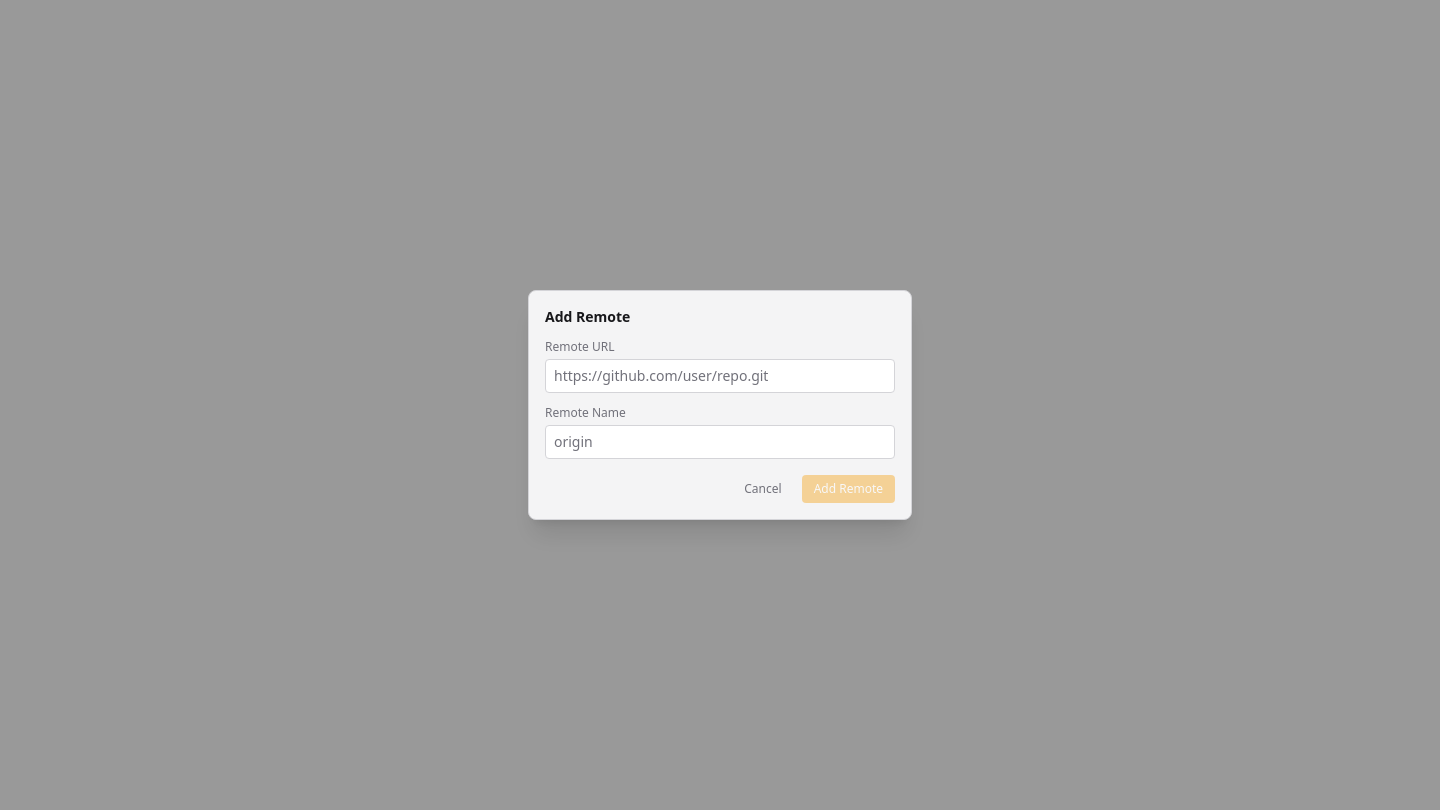
Test case: AddRemoteDialog › auto-suggests remote name from git@ URL
In the field with test id "add-remote-url": [720, 376] box [545, 359, 895, 393], type "git@github.com:user/repo.git"
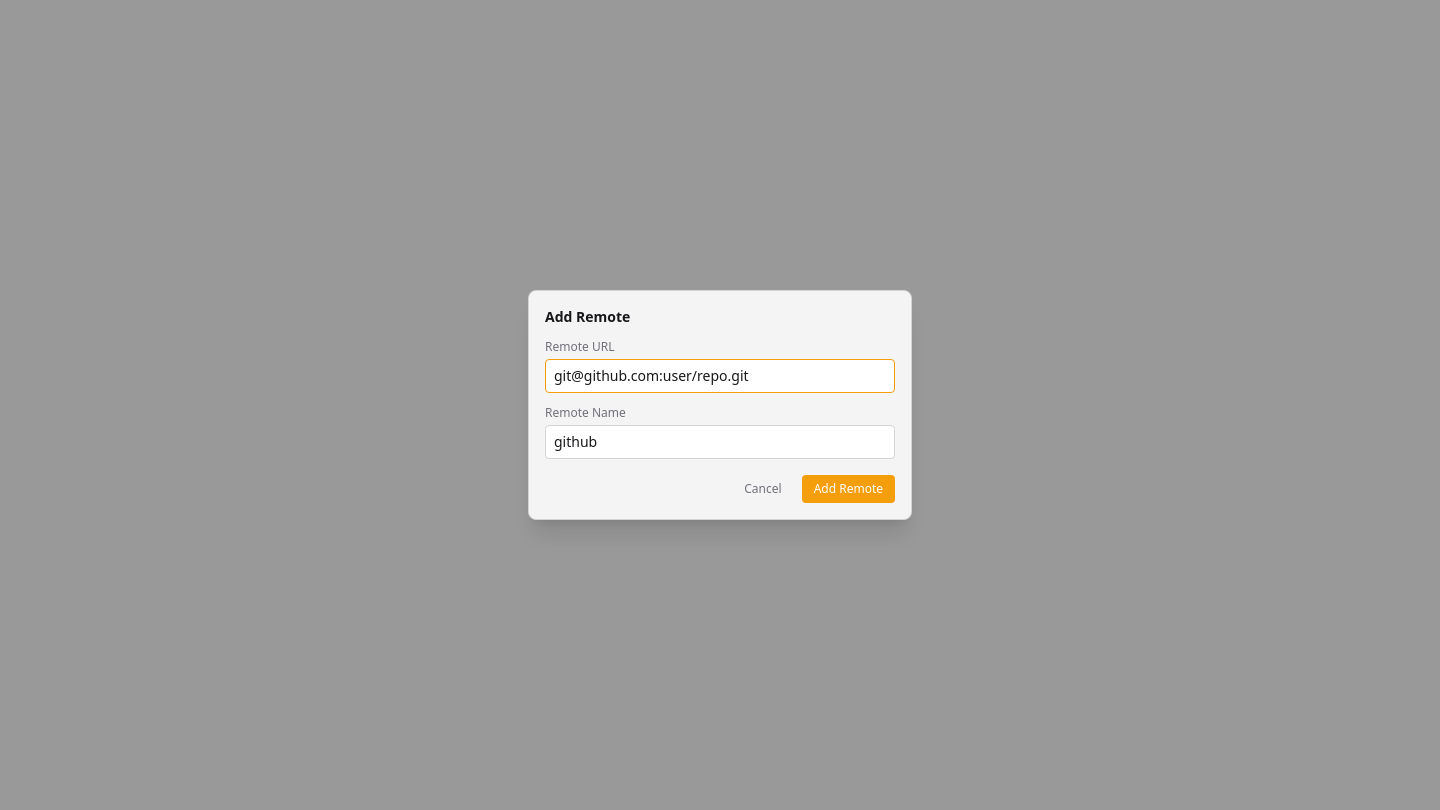
Now the field with test id "add-remote-name" holds "github", box [545, 425, 895, 459]
